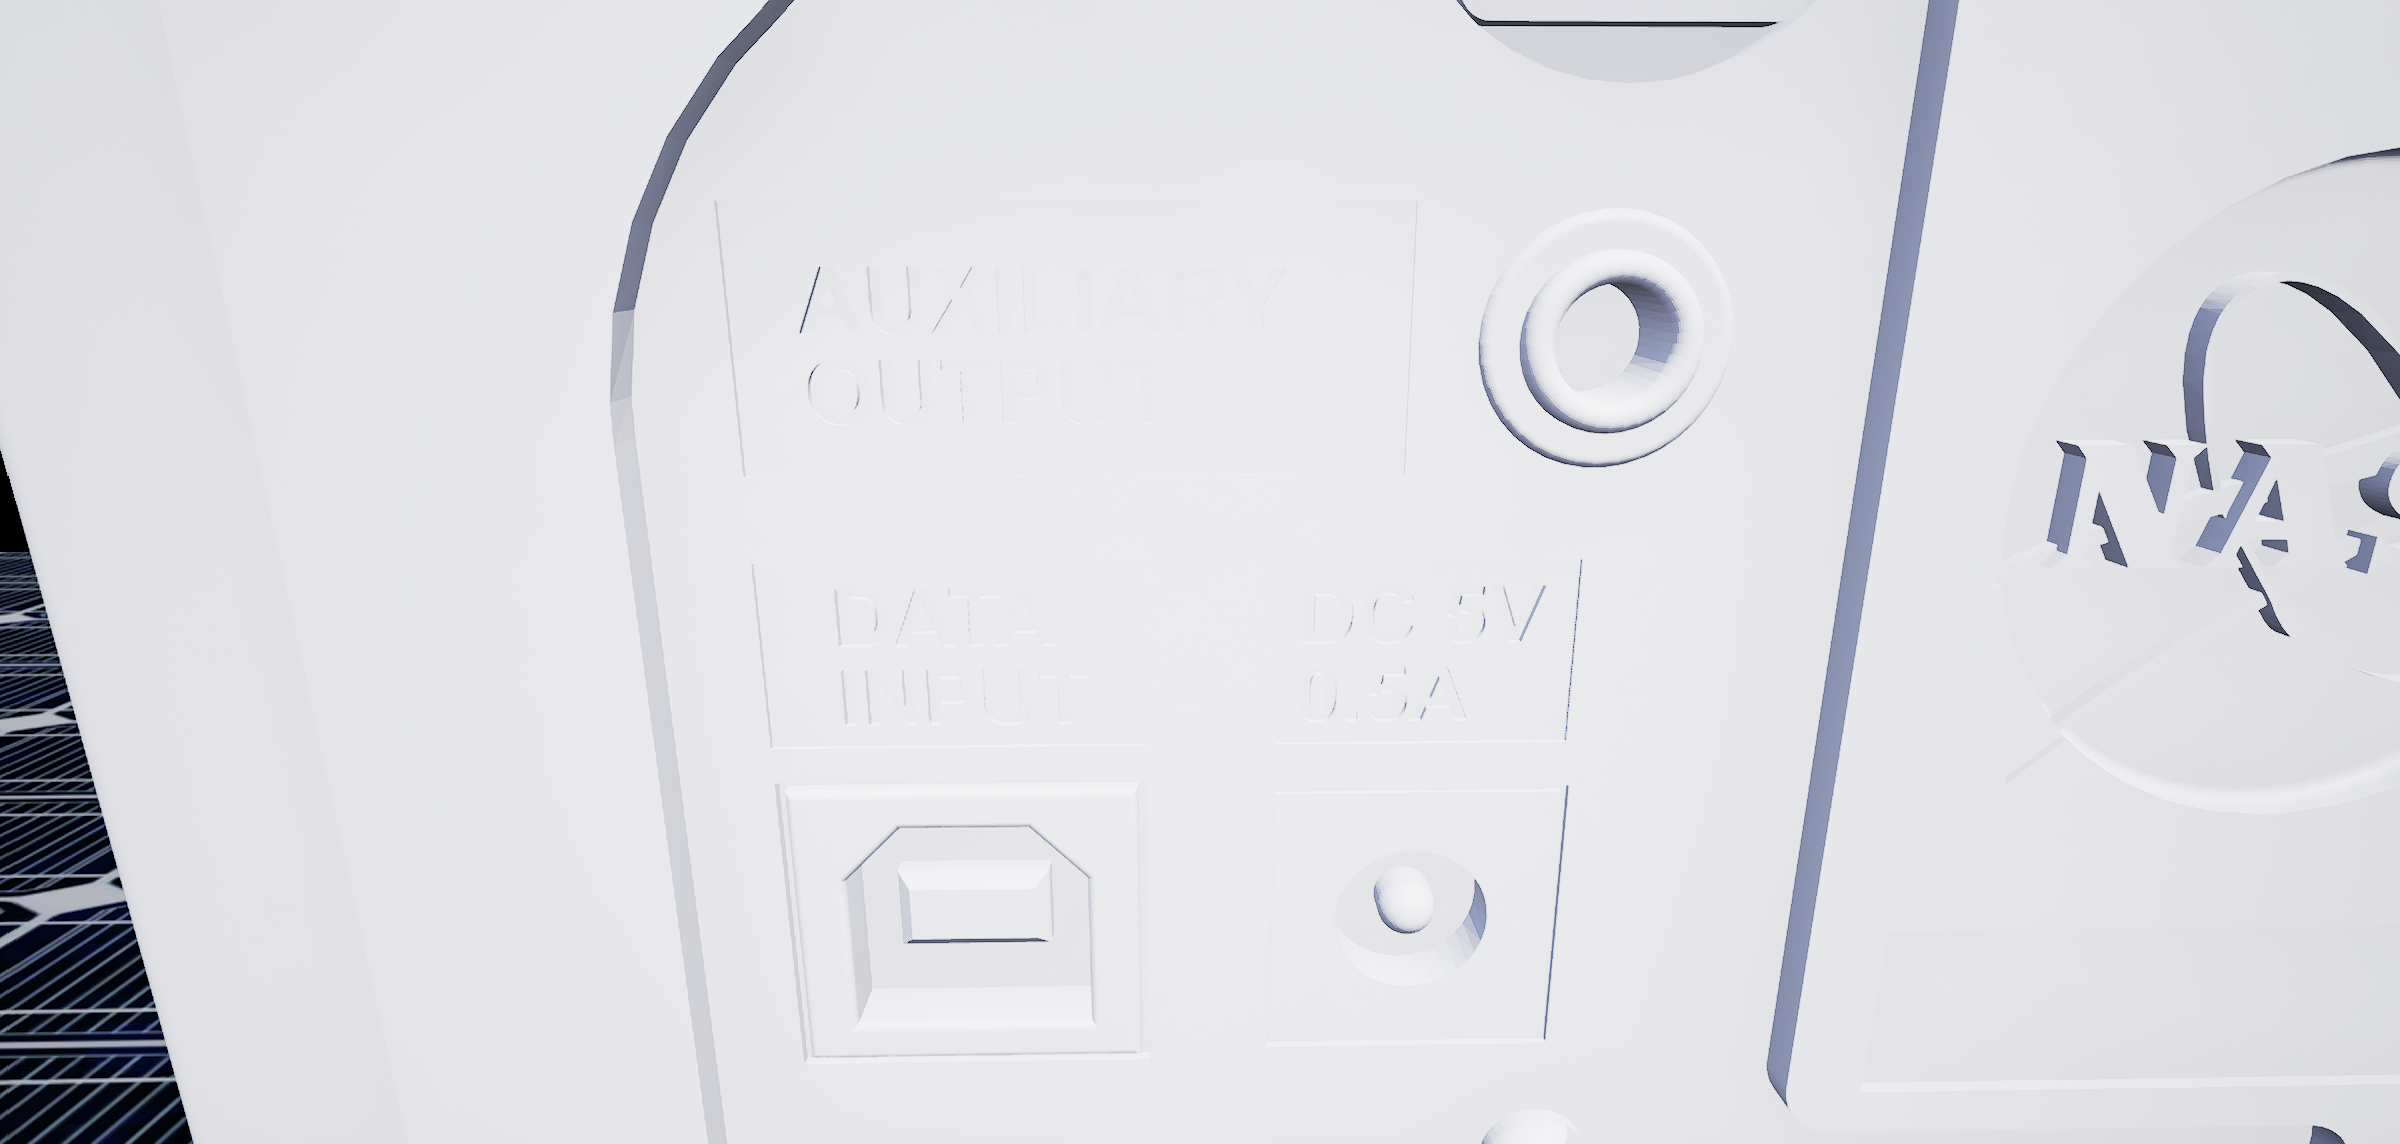aux: (1457, 202, 1765, 479)
dc: (1324, 836, 1502, 1005)
usb: (833, 815, 1110, 1041)
